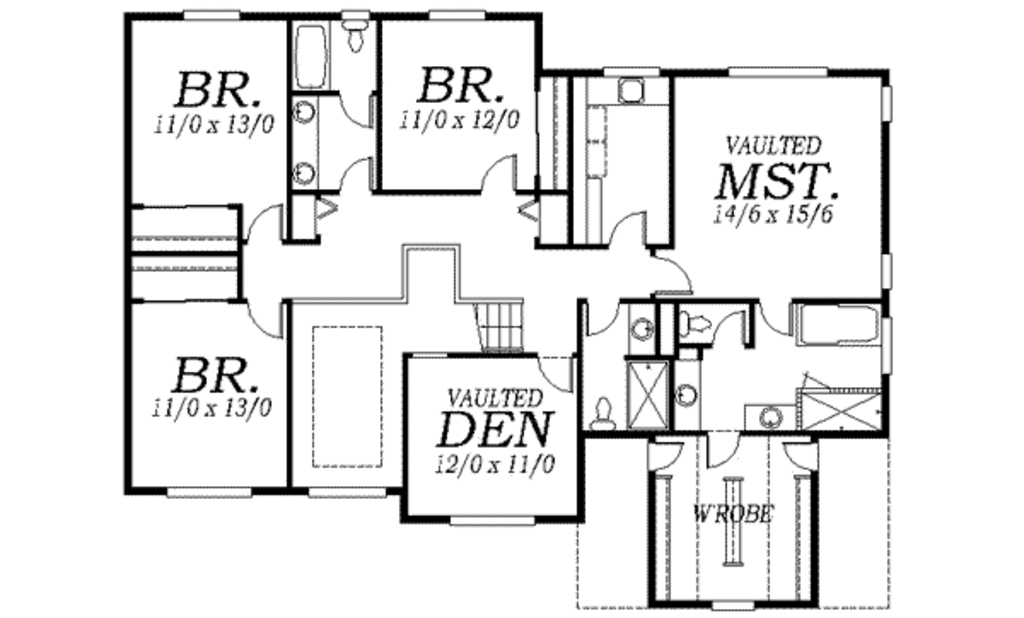door: (243, 299, 291, 345), (651, 250, 695, 297), (478, 154, 522, 199), (604, 209, 650, 251), (581, 295, 622, 342), (778, 434, 822, 475), (711, 309, 753, 351), (337, 85, 377, 129), (339, 156, 380, 198), (703, 432, 745, 473), (537, 351, 575, 396), (758, 297, 797, 339), (644, 434, 683, 475), (246, 204, 281, 245)
large_sink: (340, 15, 378, 54), (584, 393, 623, 431), (677, 306, 714, 341)
small_sink: (286, 94, 325, 192), (671, 361, 705, 435), (625, 300, 659, 355), (741, 403, 801, 432)
stairs: (458, 297, 527, 355)
tub: (795, 299, 882, 347), (288, 20, 337, 98)
window: (727, 59, 831, 86), (445, 514, 540, 533), (306, 483, 390, 503), (164, 484, 252, 500), (181, 6, 244, 24), (426, 8, 489, 23), (881, 82, 896, 130), (878, 251, 895, 292), (709, 598, 758, 612)
